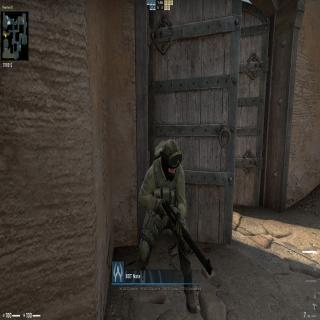CT-Head: (160, 141, 182, 186)
